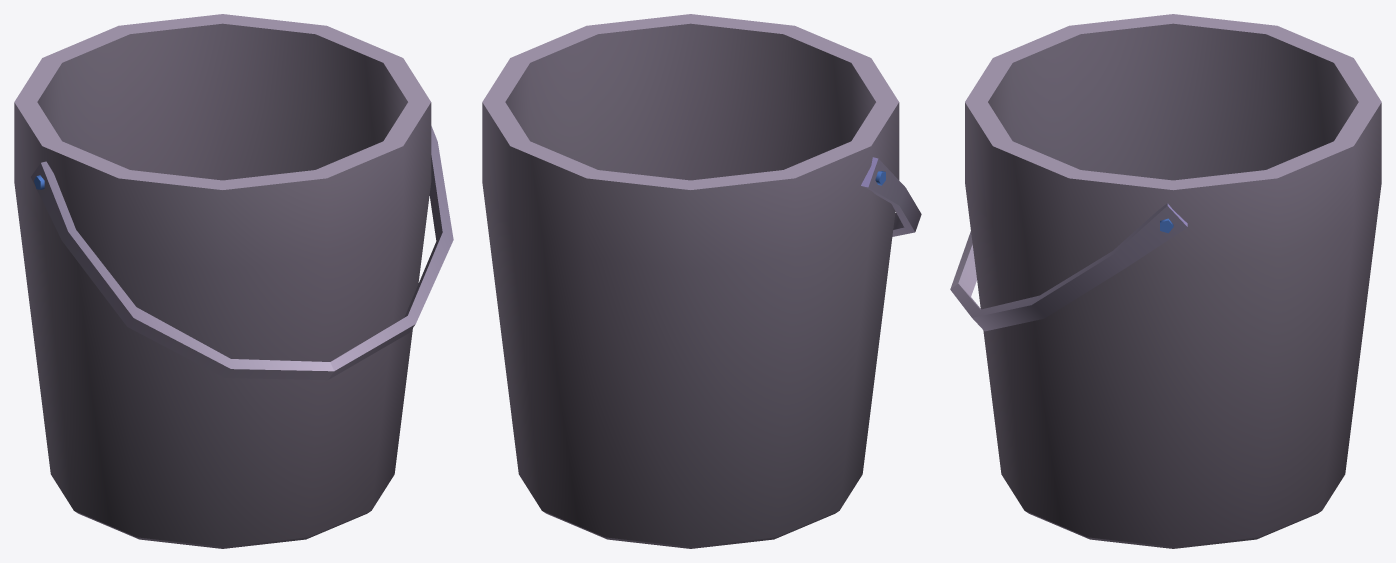
File: Bucket.fbx
3 renders of one model, left to right at view 1: azimuth 30°, elevation 25°; view 2: azimuth 150°, elevation 25°; view 3: azimuth 270°, elevation 25°, orthographic.
Visible parts, largest first — view 1: Bucket; view 2: Bucket; view 3: Bucket.
Boxes of the visible parts, x1,y1,x2,y2 form: Bucket: (14,14,453,548); Bucket: (482,14,921,548); Bucket: (950,14,1381,548).
Size of the model in its own units: 46.24 by 44.11 by 45.83.
